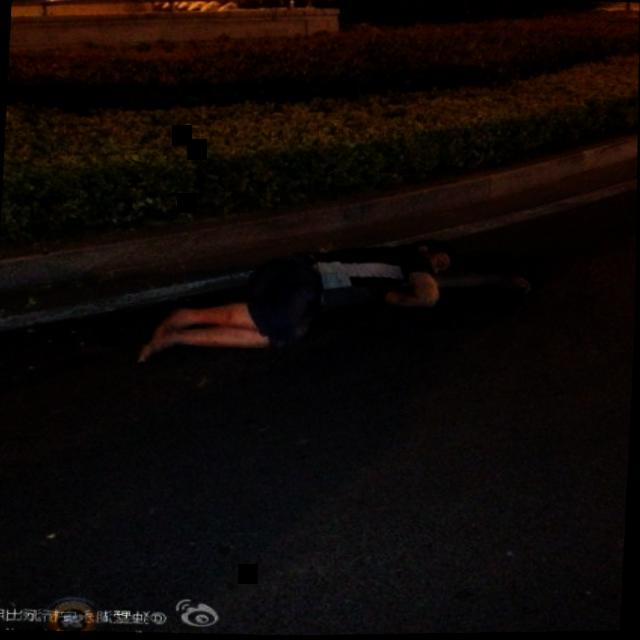Fall-Detected: (147, 213, 557, 371)
